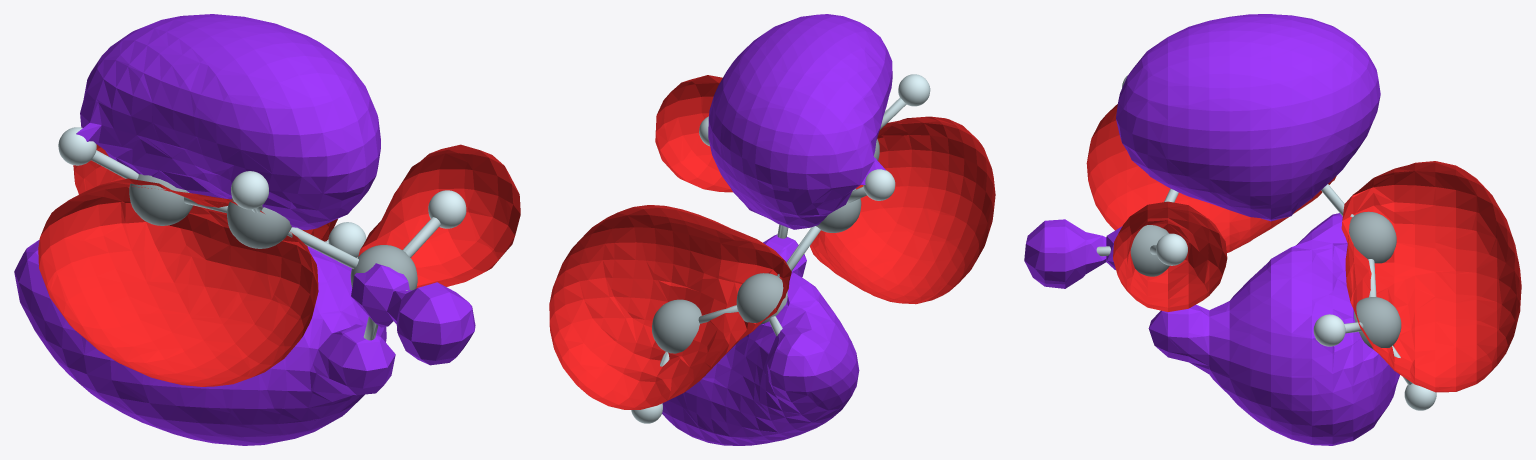
3 renders of one model, left to right at view 1: azimuth 30°, elevation 25°; view 2: azimuth 150°, elevation 25°; view 3: azimuth 270°, elevation 25°, orthographic. The views are drawn at different scales.
Visible parts, largest first — view 1: Renderer Node; view 2: Renderer Node; view 3: Renderer Node.
Boxes of the visible parts, box(x1,y1,x2,y2) form: Renderer Node: box(14, 14, 520, 445); Renderer Node: box(549, 14, 995, 445); Renderer Node: box(1024, 14, 1521, 445).
Bounding box in the file's own units: 4.93 × 5.24 × 6.16.
